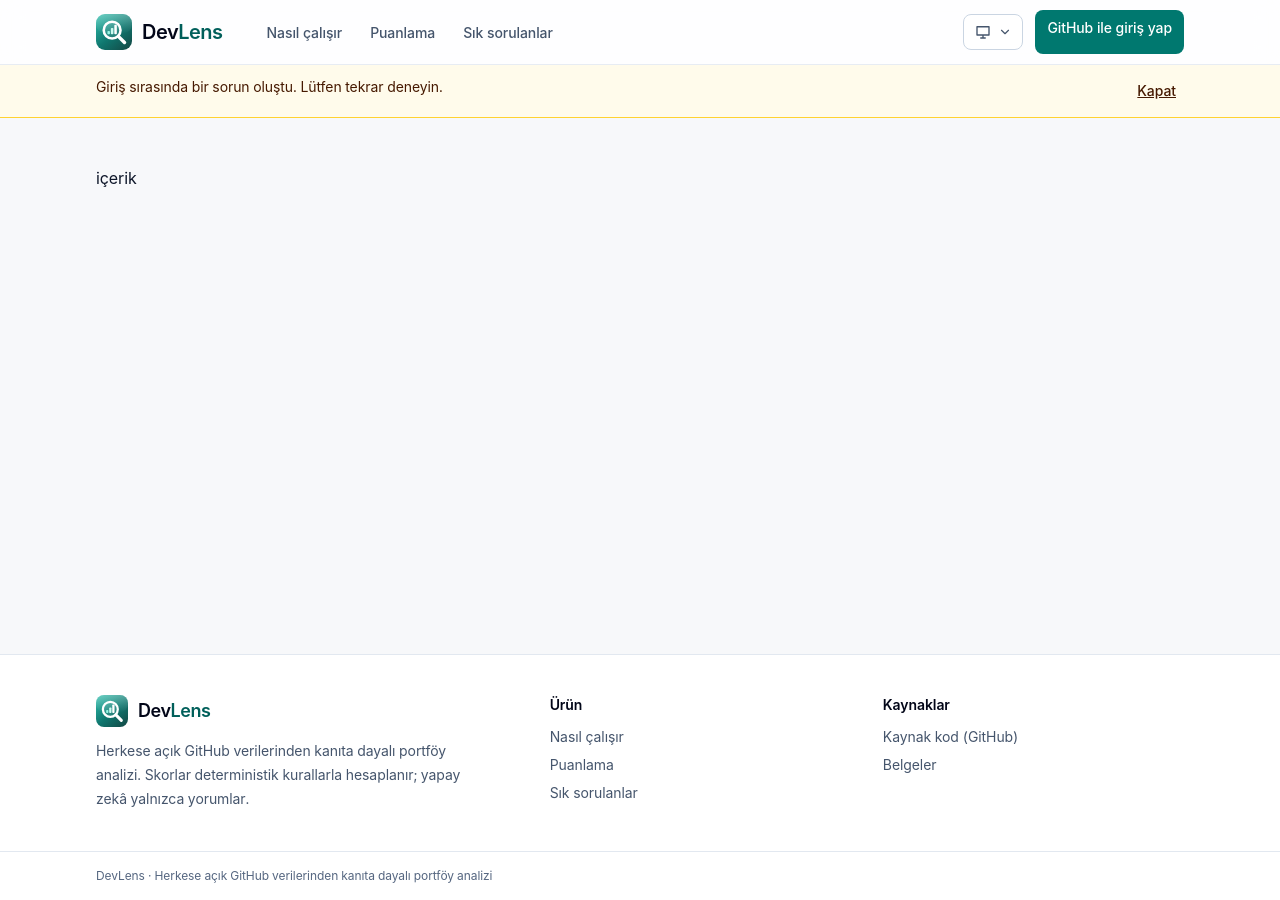
Test case: failed sign-in notice › can be dismissed and stays quiet without the parameter
Expected: the message shows "Giriş sırasında bir sorun oluştu", x1=96 y1=78 x2=443 y2=95
Click the button "Kapat" at [1157, 91], box x1=1129 y1=77 x2=1184 y2=105
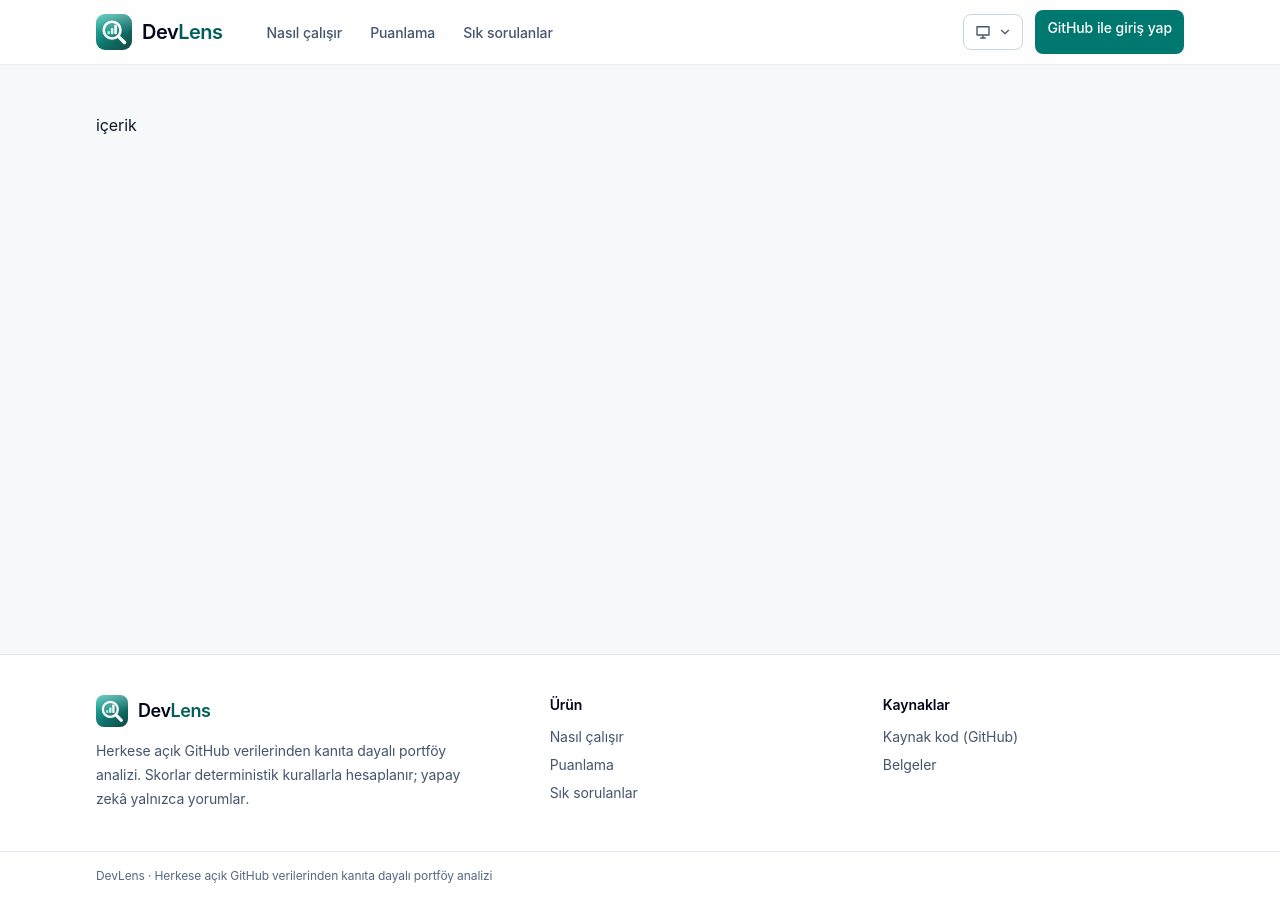
Expected: the message "Giriş sırasında bir sorun oluştu. Lütfen tekrar deneyin. Kapat" is gone
